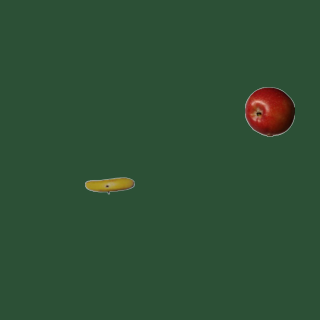Apple Braeburn: (244, 86, 294, 136)
Banana: (84, 160, 134, 210)
